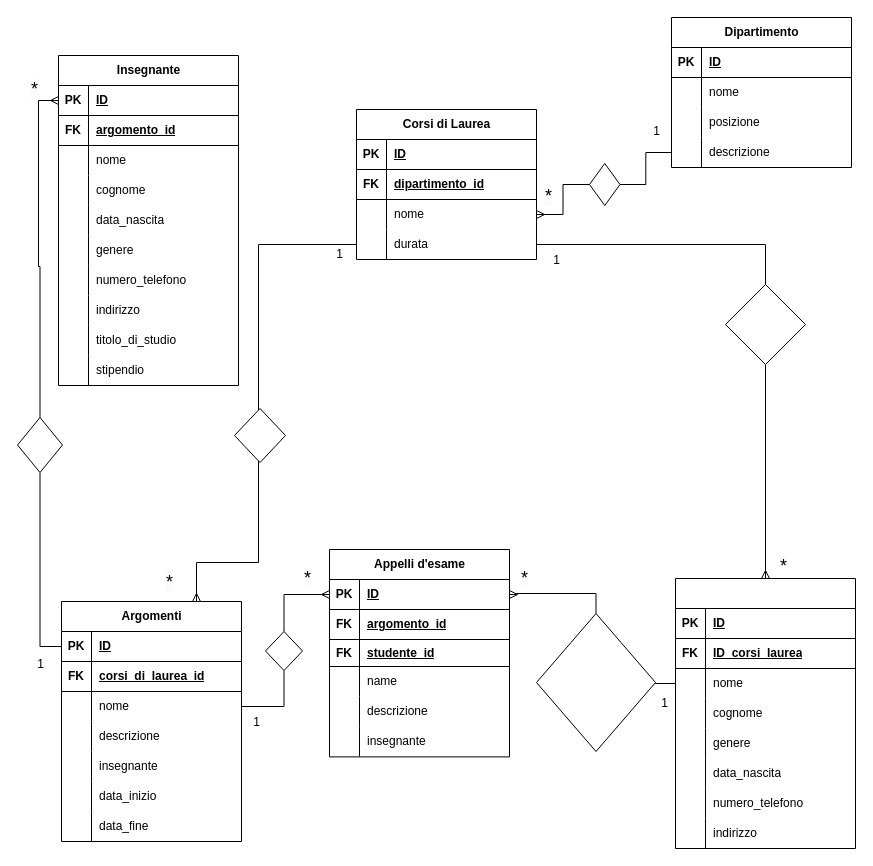
This 873x866 diagram has some shape labels left out. Each missing label, with the box of its shape:
Studente: (674, 578, 856, 848)
Voto (FK) studente:it (FK) esame_id voto: (536, 612, 656, 752)
